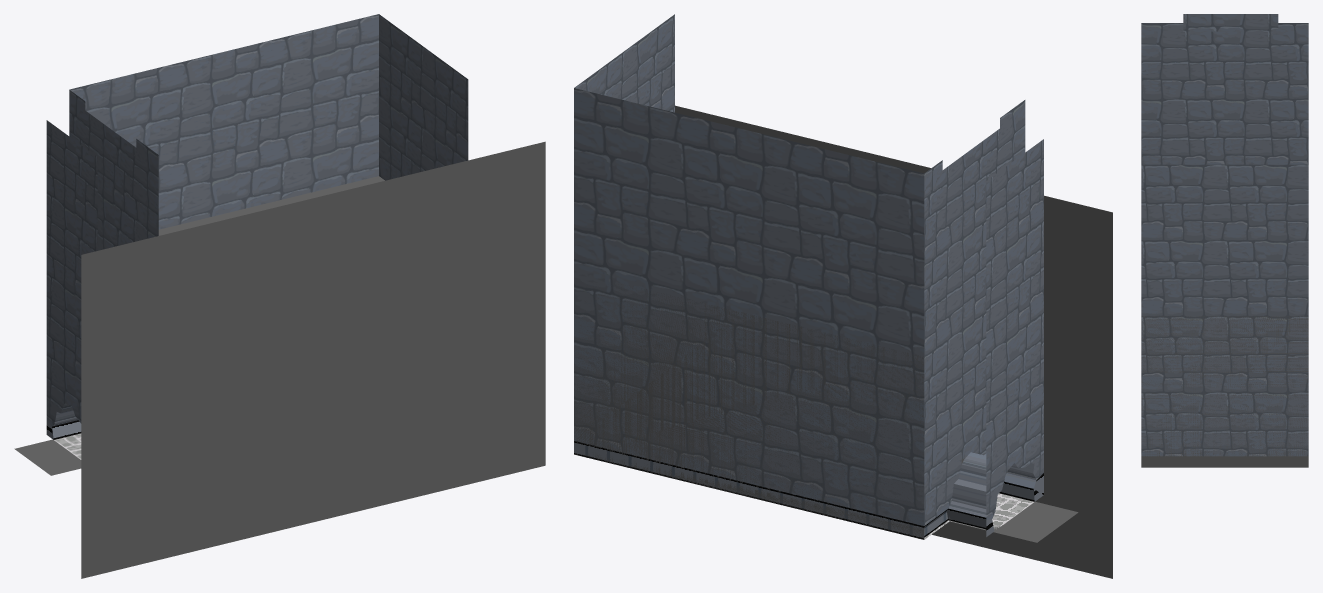
Rendered from gon_13_bake.dae.
3 views of the same model, side by side, from view 1: azimuth 30°, elevation 25°; view 2: azimuth 150°, elevation 25°; view 3: azimuth 270°, elevation 25° (orthographic). The views are drawn at different scales.
Parts seen in each view (by area): view 1: kuro8, pCube168_q00004, polySurface212_q00027_part0, polySurface161_q00005_part0, polySurface754_q00013_part0, polySurface754_q00014_part0, polySurface161_q00001_part0, pCube170_q00000; view 2: polySurface212_q00027_part0, polySurface161_q00005_part0, pCube168_q00004, kuro8, polySurface754_q00014_part0, polySurface161_q00001_part0, polySurface754_q00013_part0, polySurface212_q00027_part1, pCube170_q00000, polySurface753_q00010, polySurface161_q00001_part1; view 3: polySurface754_q00013_part0, polySurface161_q00001_part0, polySurface754_q00014_part0, pCube168_q00004, polySurface161_q00005_part0.
Part boxes in pixels (box(x1,y1,x2,y2)): kuro8: box(81, 141, 545, 578); pCube168_q00004: box(158, 176, 468, 478); polySurface212_q00027_part0: box(69, 14, 378, 229); polySurface161_q00005_part0: box(46, 110, 136, 426); polySurface754_q00013_part0: box(379, 14, 468, 180); polySurface754_q00014_part0: box(69, 90, 158, 241); polySurface161_q00001_part0: box(46, 122, 134, 425); pCube170_q00000: box(14, 439, 81, 475); polySurface212_q00027_part0: box(574, 88, 924, 525); polySurface161_q00005_part0: box(942, 128, 1043, 519); pCube168_q00004: box(574, 284, 949, 539); kuro8: box(675, 105, 1112, 578); polySurface754_q00014_part0: box(924, 100, 1025, 525); polySurface161_q00001_part0: box(942, 151, 1043, 515); polySurface754_q00013_part0: box(574, 14, 674, 112); polySurface212_q00027_part1: box(574, 441, 924, 539); pCube170_q00000: box(950, 501, 1078, 542); polySurface753_q00010: box(951, 493, 1033, 529); polySurface161_q00001_part1: box(947, 473, 1043, 528); polySurface754_q00013_part0: box(1141, 164, 1308, 456); polySurface161_q00001_part0: box(1183, 14, 1278, 164); polySurface754_q00014_part0: box(1141, 23, 1308, 164); pCube168_q00004: box(1141, 316, 1308, 467); polySurface161_q00005_part0: box(1183, 14, 1278, 164).
Size of the model in its own units: 60 by 50 by 20.
